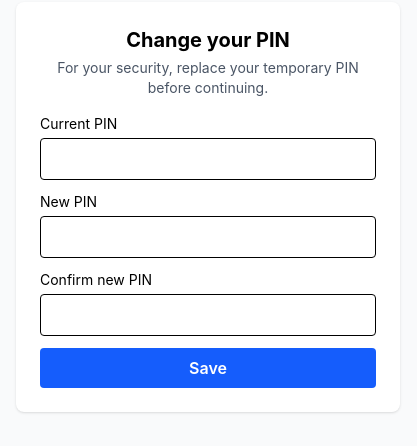
Scenario: ChangeCredential › rejects a mismatched confirmation without hitting the API
Type "1234" into the password field labelled "Current PIN" at [208, 159], box [40,138,376,180]
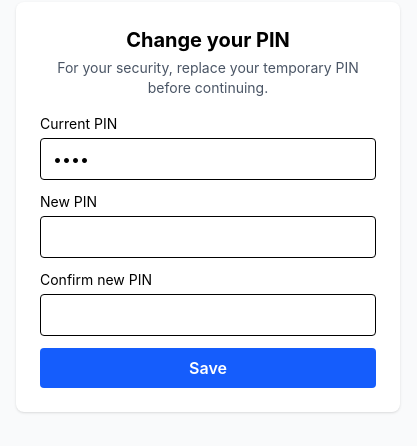
Type "5678" into the password field labelled "New PIN" at [208, 237], box [40,216,376,258]
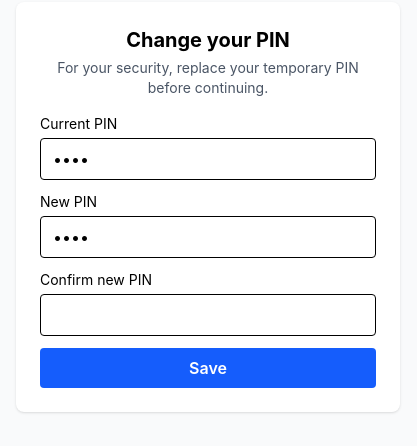
Type "9999" into the password field labelled "Confirm new PIN" at [208, 315], box [40,294,376,336]
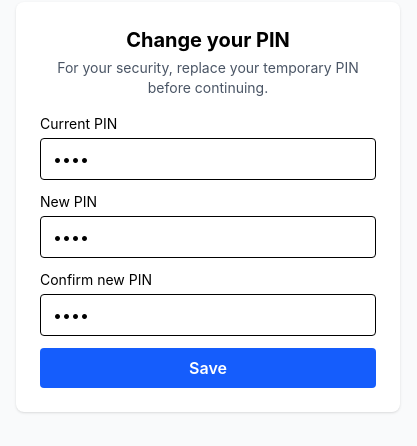
Click the button "Save" at [208, 368], box [40,348,376,388]
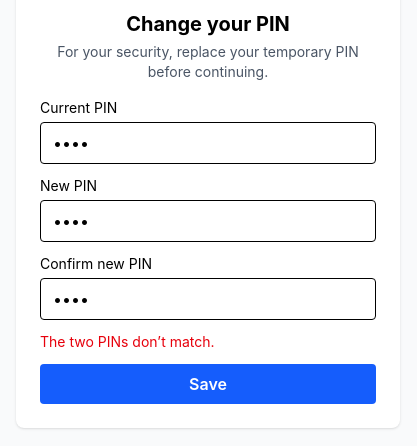
Now the text "The two PINs don’t match." is shown, box [40,333,214,350]
